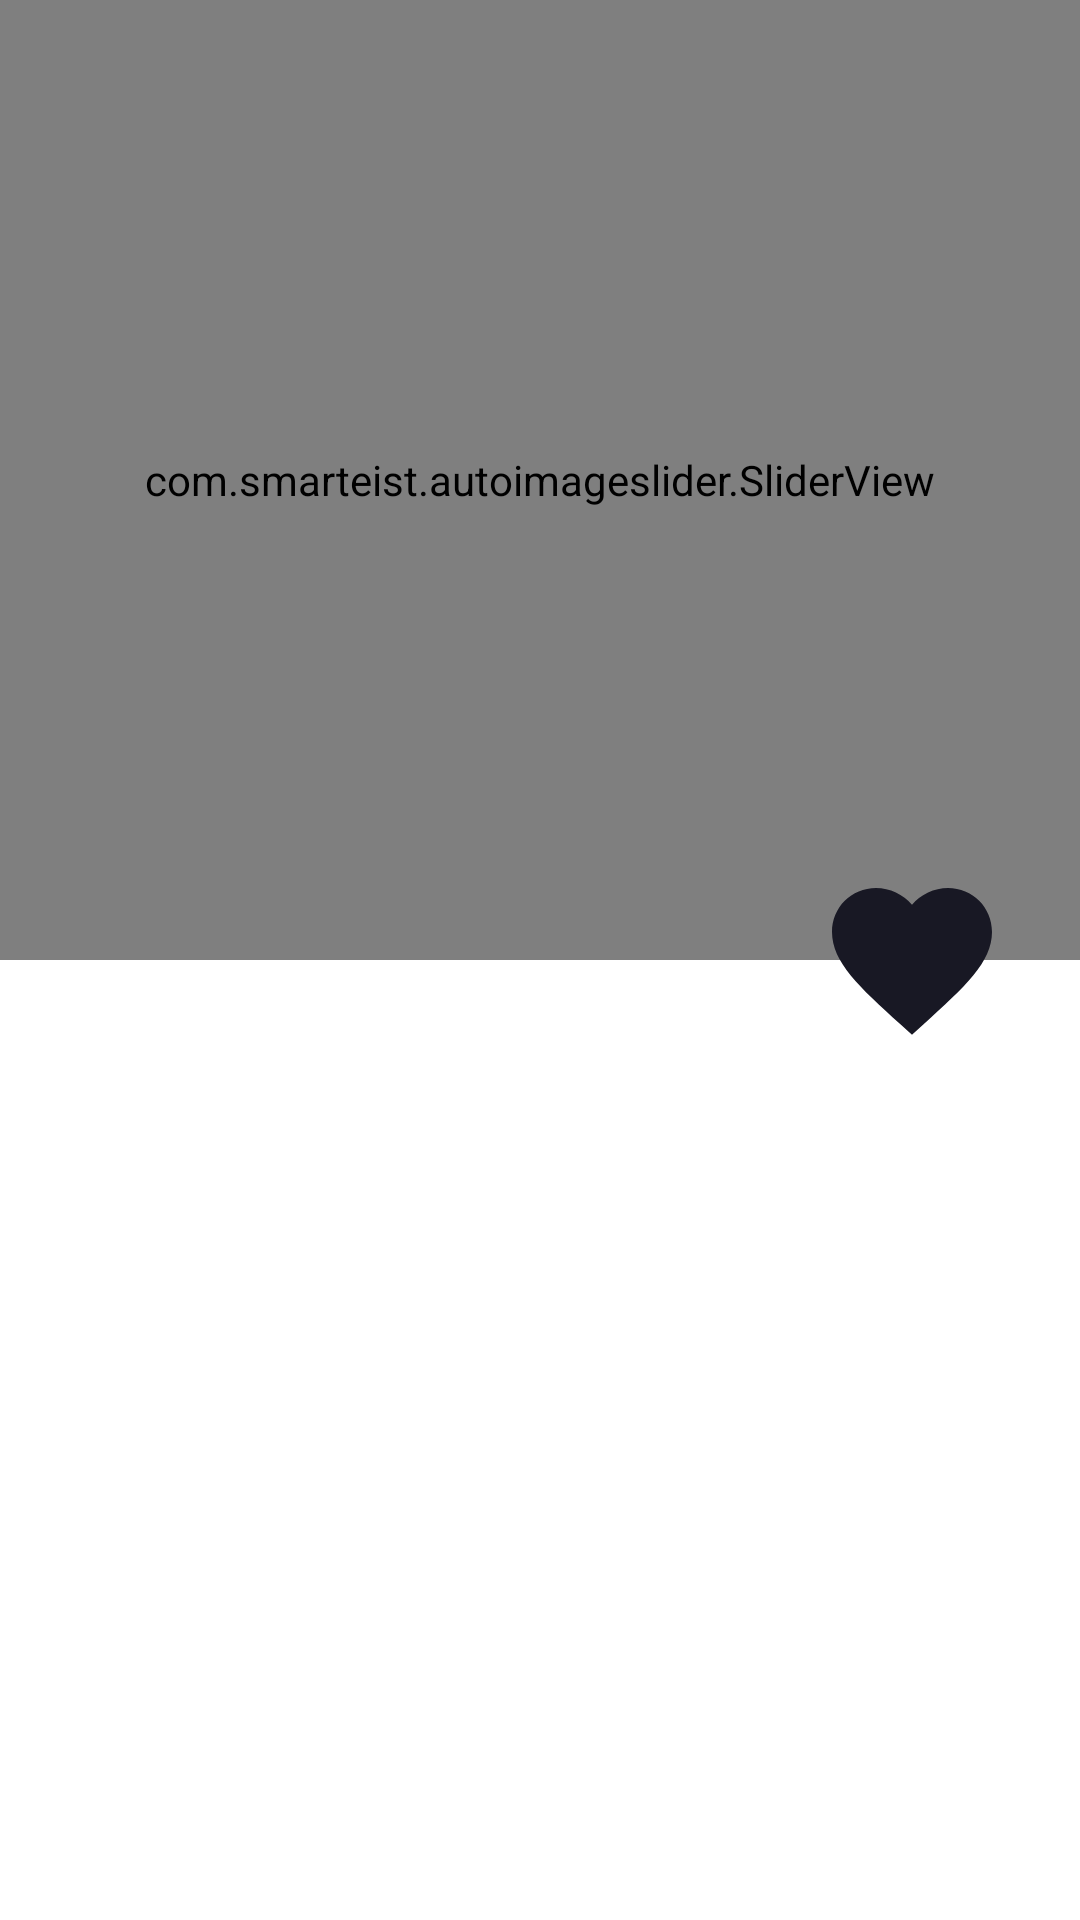

Point at icon controls on the screen. Image size 1080 x 1920, points as (x=x, y=y).
favorite: (x=912, y=960)
